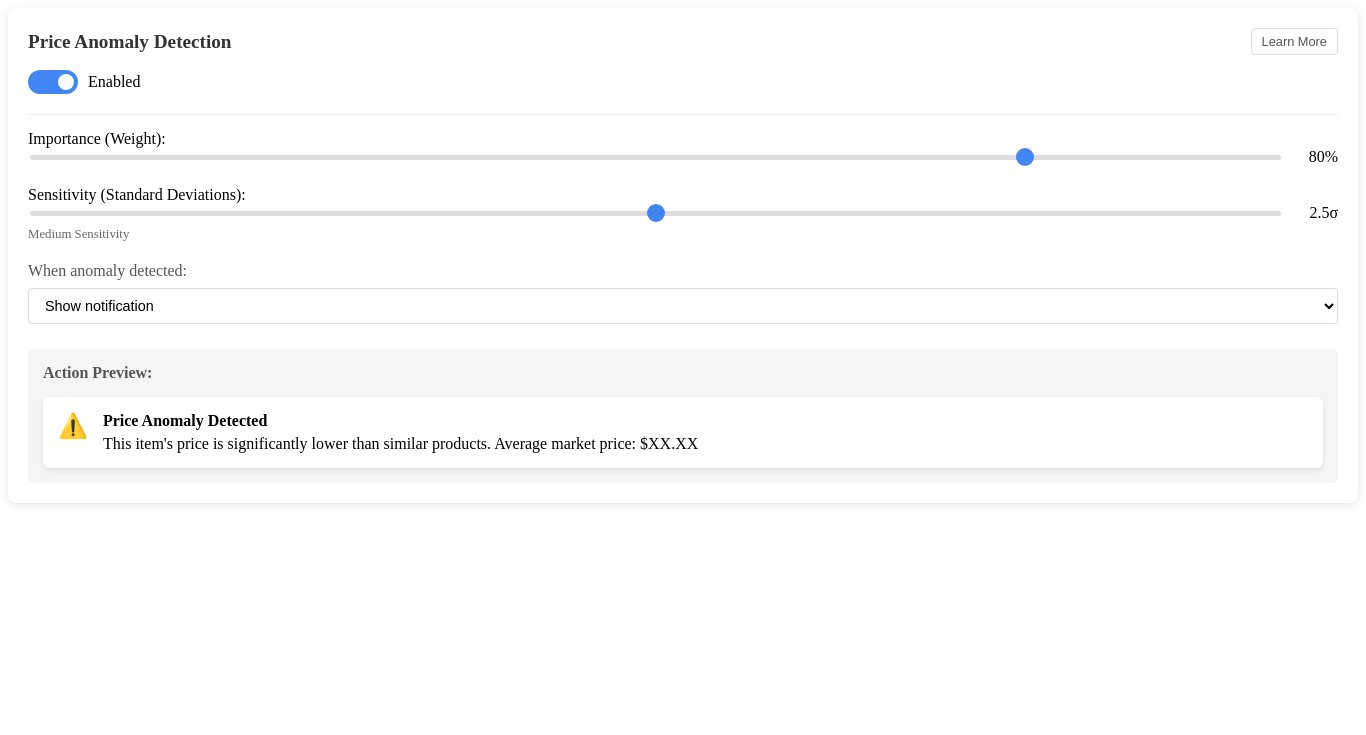
Scenario: PriceAnomalySettings Component › toggles explanation when Learn More is clicked
Check: the text "Understanding Standard Deviations in Price Analysis" is not shown
Click the Learn More button
Click the button "Learn More" at [1294, 42], box [1250,28,1338,55]
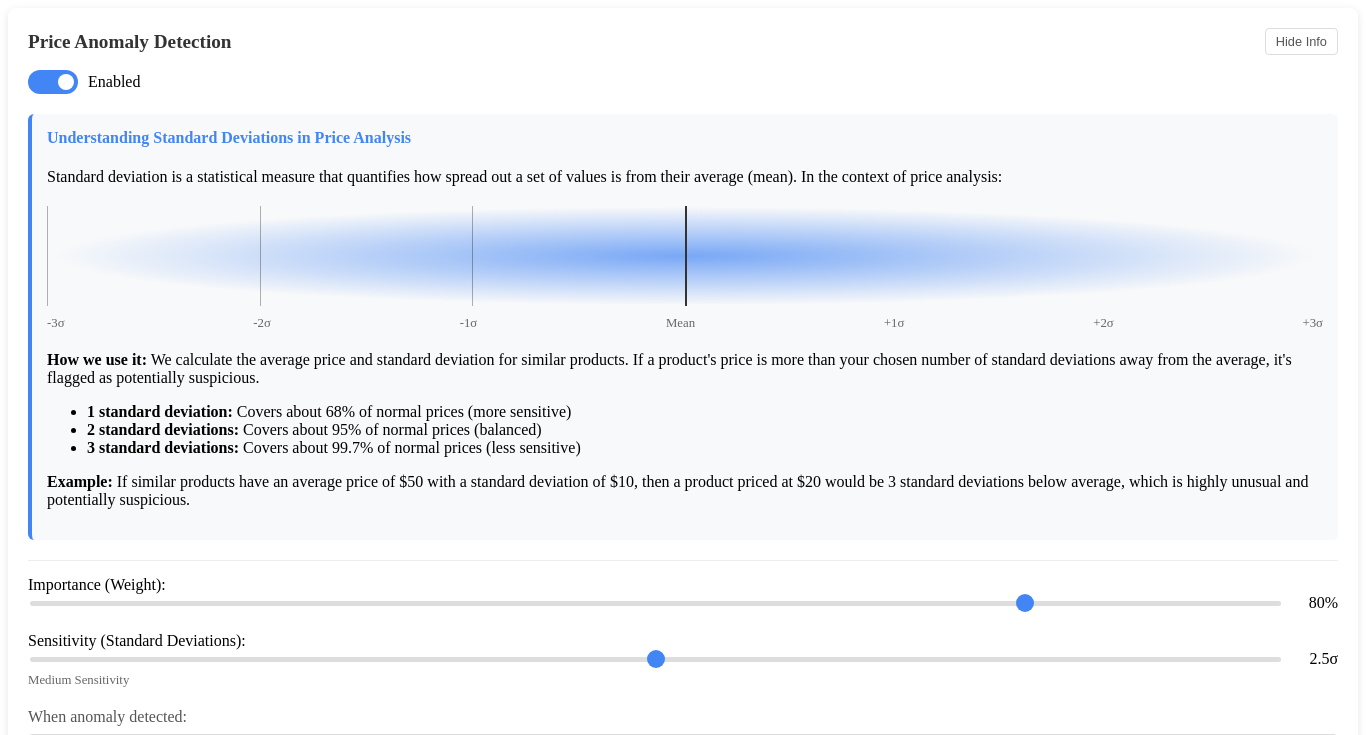
Check: the heading "Understanding Standard Deviations in Price Analysis" is shown, box [47,129,411,146]
Click the Hide Info button
Click the button "Hide Info" at [1301, 42], box [1265,28,1338,55]
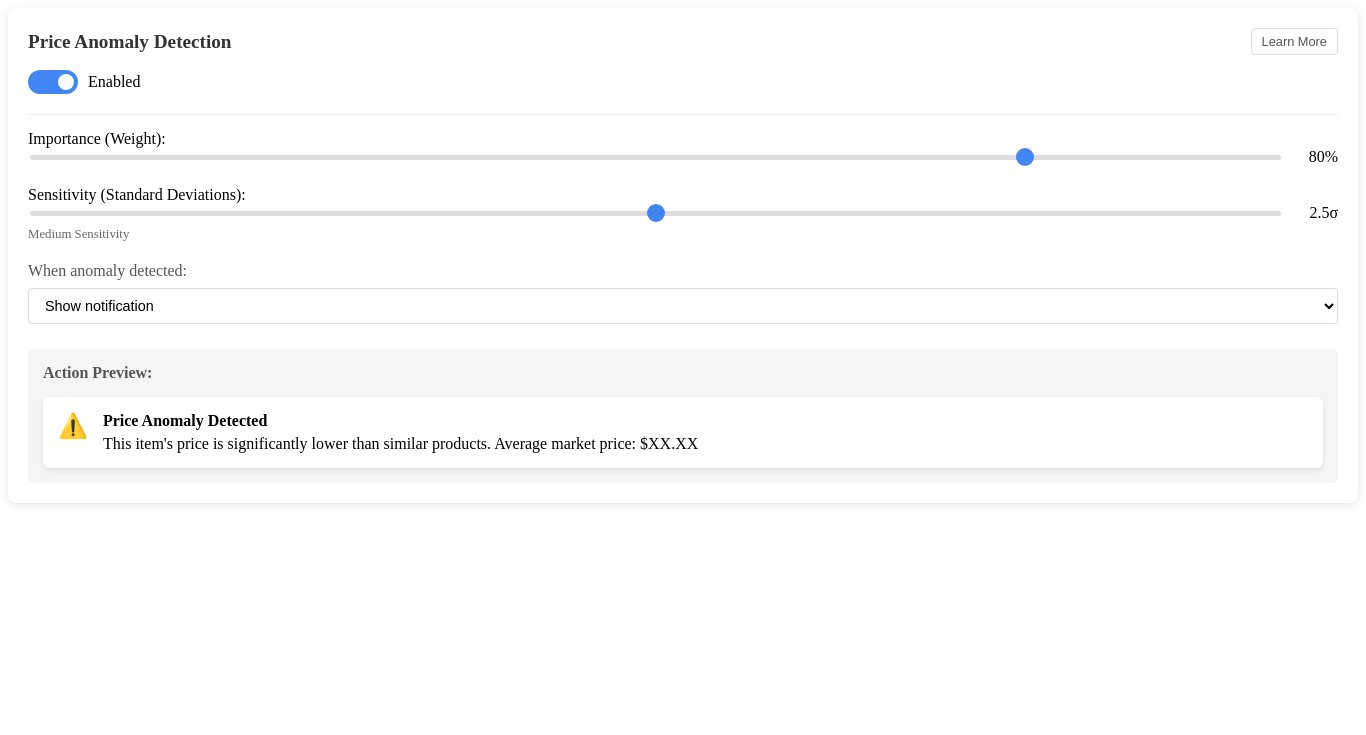
Check: the heading "Understanding Standard Deviations in Price Analysis" is gone
